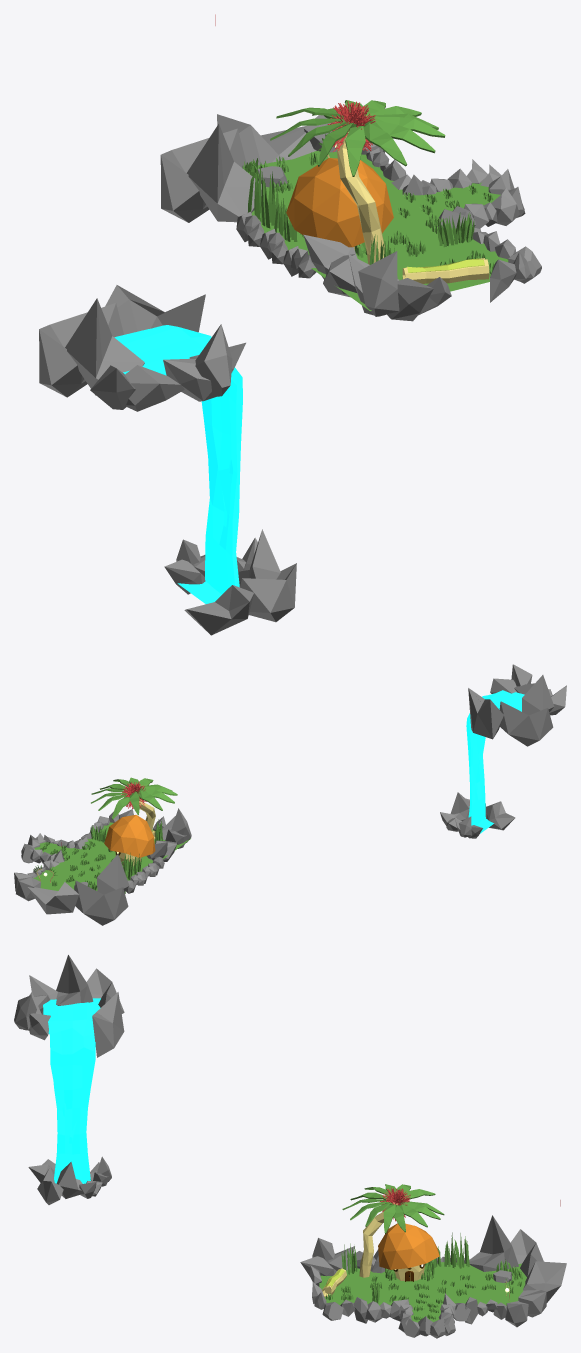
The model's file is olfy_scene_p2.fbx.
3 renders of one model, top to bottom at view 1: azimuth 30°, elevation 25°; view 2: azimuth 150°, elevation 25°; view 3: azimuth 270°, elevation 25°, orthographic. The views are drawn at different scales.
Visible parts, largest first — view 1: Icosphere.013, Rocks waterfall upper, Waterfall, Ground plane, Tree, Rocks waterfall, Mushroom top, Grass ground, Cylinder, Grass wall.001; view 2: Icosphere.013, Rocks waterfall upper, Ground plane, Waterfall, Tree, Rocks waterfall, Mushroom top, Grass ground; view 3: Icosphere.013, Waterfall, Ground plane, Rocks waterfall upper, Tree, Mushroom top, Rocks waterfall, Grass ground, Grass wall.001.
Boxes of the visible parts, x1,y1,x2,y2 form: Icosphere.013: (160,114,541,321); Rocks waterfall upper: (39,285,245,411); Waterfall: (114,325,242,594); Ground plane: (248,151,508,310); Tree: (270,100,445,264); Rocks waterfall: (164,529,296,635); Mushroom top: (286,158,393,247); Grass ground: (242,152,494,273); Cylinder: (402,258,489,283); Grass wall.001: (248,162,279,228); Icosphere.013: (14,808,191,925); Rocks waterfall upper: (468,664,566,746); Ground plane: (33,822,190,890); Waterfall: (466,690,524,825); Tree: (91,777,177,832); Rocks waterfall: (440,792,515,838); Mushroom top: (104,815,155,857); Grass ground: (40,841,133,890); Icosphere.013: (300,1215,566,1338); Waterfall: (43,998,100,1183); Ground plane: (319,1262,526,1322); Rocks waterfall upper: (14,955,124,1057); Tree: (342,1184,444,1277); Mushroom top: (378,1223,439,1269); Rocks waterfall: (28,1156,111,1204); Grass ground: (326,1259,522,1320); Grass wall.001: (444,1232,469,1268).
Size of the model in its own units: 2397 by 1061 by 2593.
